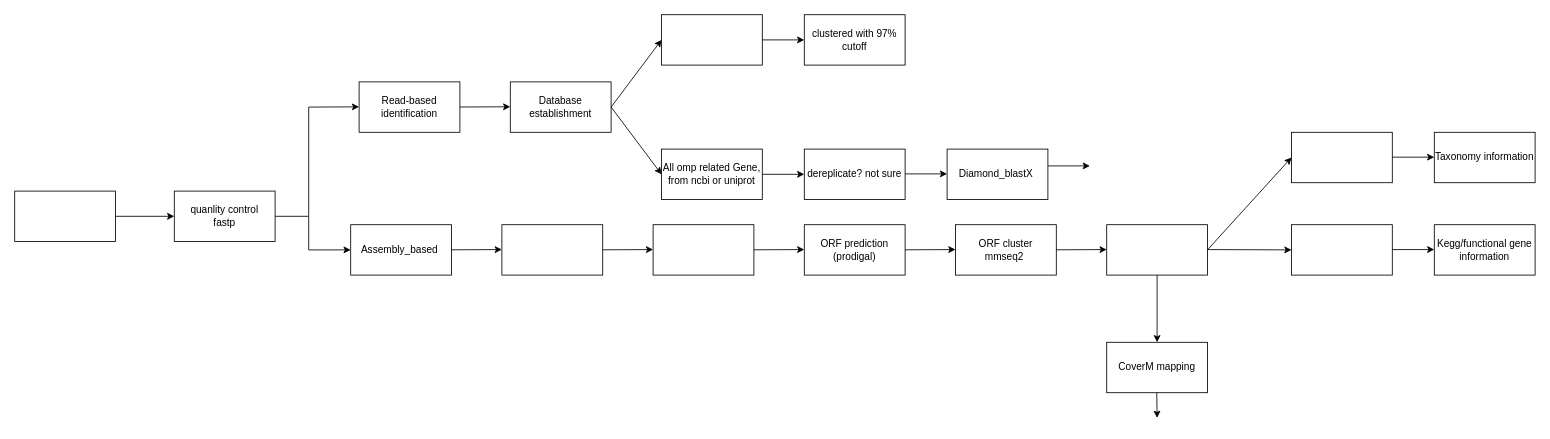
Some shapes in this 1550 by 439 pixel diagram are drawn without their labels. The centre of each missing label's shape, as x and y in pixels:
16s rRNA database (Silva): point (711, 39)
eggnog annotation: point (1341, 249)
filter length <300: point (703, 249)
GTDB annotation: point (1341, 157)
metaspade/megahit: point (552, 249)
Raw_data: point (65, 216)
seq_extraction seqkit: point (1157, 249)
